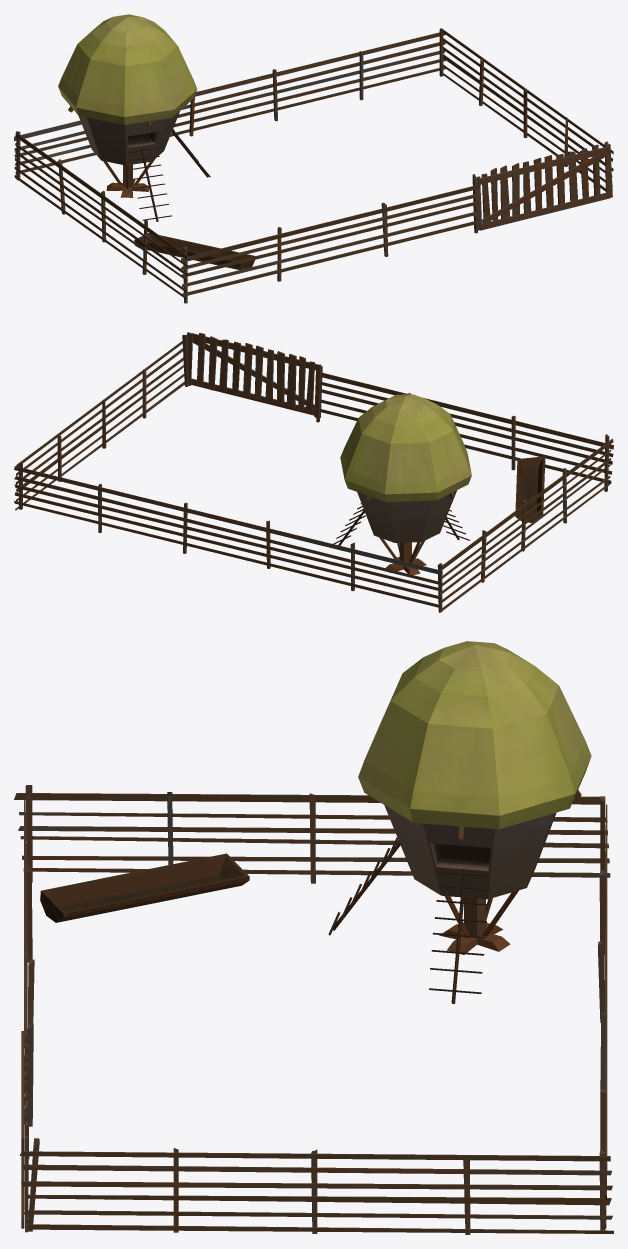
Rendered from henhouse.fbx.
The picture shows the model from 3 angles, top to bottom: view 1: azimuth 30°, elevation 25°; view 2: azimuth 150°, elevation 25°; view 3: azimuth 270°, elevation 25°; orthographic projection. The views are drawn at different scales.
Visible parts, largest first — view 1: Henhouse; view 2: Henhouse; view 3: Henhouse.
Boxes of the visible parts, x1=… form: Henhouse: x1=14, y1=14, x2=613, y2=303; Henhouse: x1=14, y1=332, x2=613, y2=612; Henhouse: x1=14, y1=641, x2=613, y2=1234.
Size of the model in its own units: 731 by 284 by 511.
